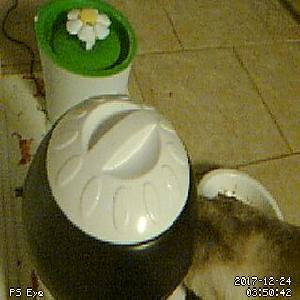cat: (179, 192, 300, 300)
fountain: (32, 1, 137, 77)
